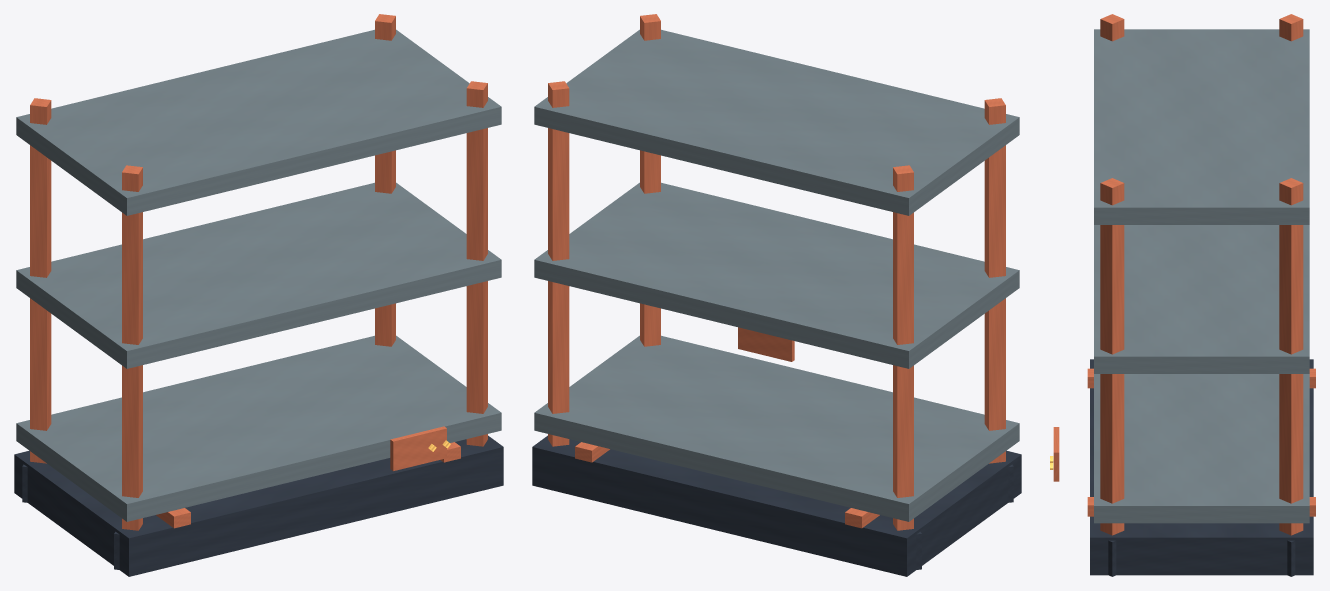
The model's file is atlas100-s023-a06.lod1.glb.
The picture shows the model from 3 angles, left to right: view 1: azimuth 30°, elevation 25°; view 2: azimuth 150°, elevation 25°; view 3: azimuth 270°, elevation 25°; orthographic projection. The views are drawn at different scales.
Visible parts, largest first — view 1: atlas100-s023-a06:part-013, atlas100-s023-a06:part-012, atlas100-s023-a06:part-011, atlas100-s023-a06:part-000, atlas100-s023-a06:part-009, atlas100-s023-a06:part-005, atlas100-s023-a06:part-003, atlas100-s023-a06:part-007, atlas100-s023-a06:part-014; view 2: atlas100-s023-a06:part-013, atlas100-s023-a06:part-011, atlas100-s023-a06:part-012, atlas100-s023-a06:part-000, atlas100-s023-a06:part-007, atlas100-s023-a06:part-003, atlas100-s023-a06:part-005, atlas100-s023-a06:part-009, atlas100-s023-a06:part-014; view 3: atlas100-s023-a06:part-013, atlas100-s023-a06:part-011, atlas100-s023-a06:part-012, atlas100-s023-a06:part-000, atlas100-s023-a06:part-007, atlas100-s023-a06:part-009, atlas100-s023-a06:part-005, atlas100-s023-a06:part-003, atlas100-s023-a06:part-014.
Boxes of the visible parts, x1,y1,x2,y2 form: atlas100-s023-a06:part-013: (16,29,501,215); atlas100-s023-a06:part-012: (16,182,501,368); atlas100-s023-a06:part-011: (16,335,501,521); atlas100-s023-a06:part-000: (14,435,503,576); atlas100-s023-a06:part-009: (466,81,487,446); atlas100-s023-a06:part-005: (122,165,142,530); atlas100-s023-a06:part-003: (30,98,51,463); atlas100-s023-a06:part-007: (375,14,395,346); atlas100-s023-a06:part-014: (390,426,446,471); atlas100-s023-a06:part-013: (534,29,1019,215); atlas100-s023-a06:part-011: (534,335,1019,521); atlas100-s023-a06:part-012: (534,182,1019,368); atlas100-s023-a06:part-000: (532,435,1021,576); atlas100-s023-a06:part-007: (548,81,569,446); atlas100-s023-a06:part-003: (893,165,913,530); atlas100-s023-a06:part-005: (984,98,1005,463); atlas100-s023-a06:part-009: (640,14,660,346); atlas100-s023-a06:part-014: (738,327,794,361); atlas100-s023-a06:part-013: (1094,29,1309,224); atlas100-s023-a06:part-011: (1094,374,1309,523); atlas100-s023-a06:part-012: (1094,225,1309,373); atlas100-s023-a06:part-000: (1090,359,1313,575); atlas100-s023-a06:part-007: (1279,178,1303,535); atlas100-s023-a06:part-009: (1100,178,1124,535); atlas100-s023-a06:part-005: (1100,14,1124,41); atlas100-s023-a06:part-003: (1279,14,1303,41); atlas100-s023-a06:part-014: (1053,427,1059,481).
Size of the model in its own units: 2.69 by 2.66 by 1.66.
Materials: 4 (4 with a texture image).
